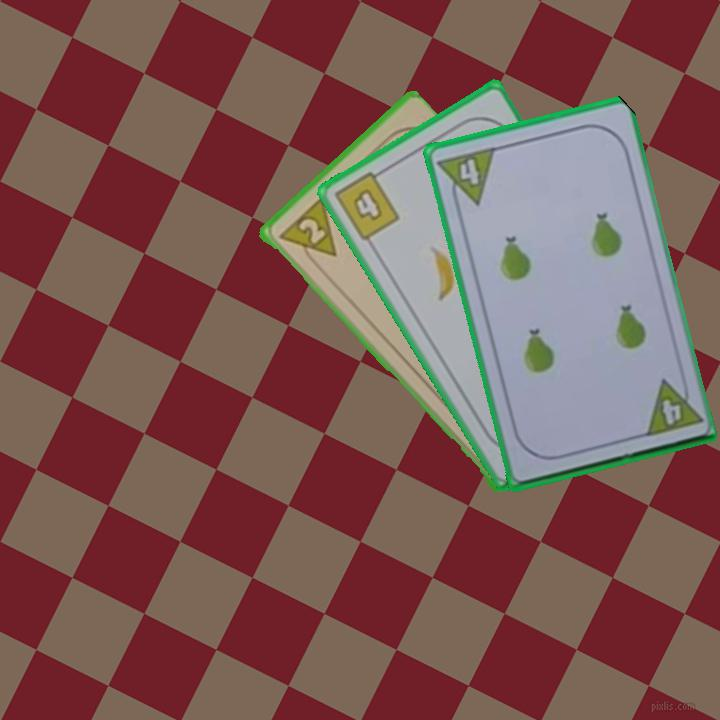2p: (275, 194, 340, 271)
4b: (330, 164, 403, 244)
4p: (434, 143, 498, 213), (639, 372, 704, 439)
